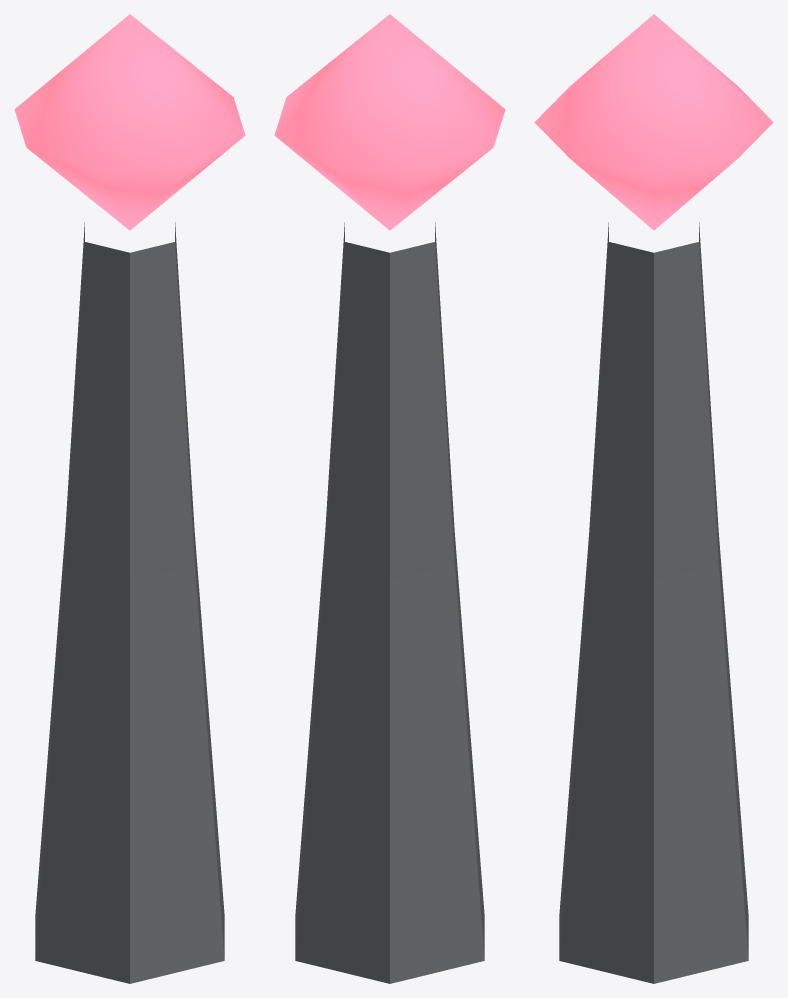
The model's file is lunar-rift-beacon-red.glb.
3 views of the same model, side by side, from view 1: azimuth 30°, elevation 25°; view 2: azimuth 150°, elevation 25°; view 3: azimuth 270°, elevation 25° (orthographic).
Parts seen in each view (by area): view 1: BEACON_RED; view 2: BEACON_RED; view 3: BEACON_RED.
Part boxes in pixels (<box>): BEACON_RED: <box>14,14,245,983</box>; BEACON_RED: <box>274,14,505,983</box>; BEACON_RED: <box>534,14,773,983</box>.
Size of the model in its own units: 2.3 by 9.8 by 2.3.
